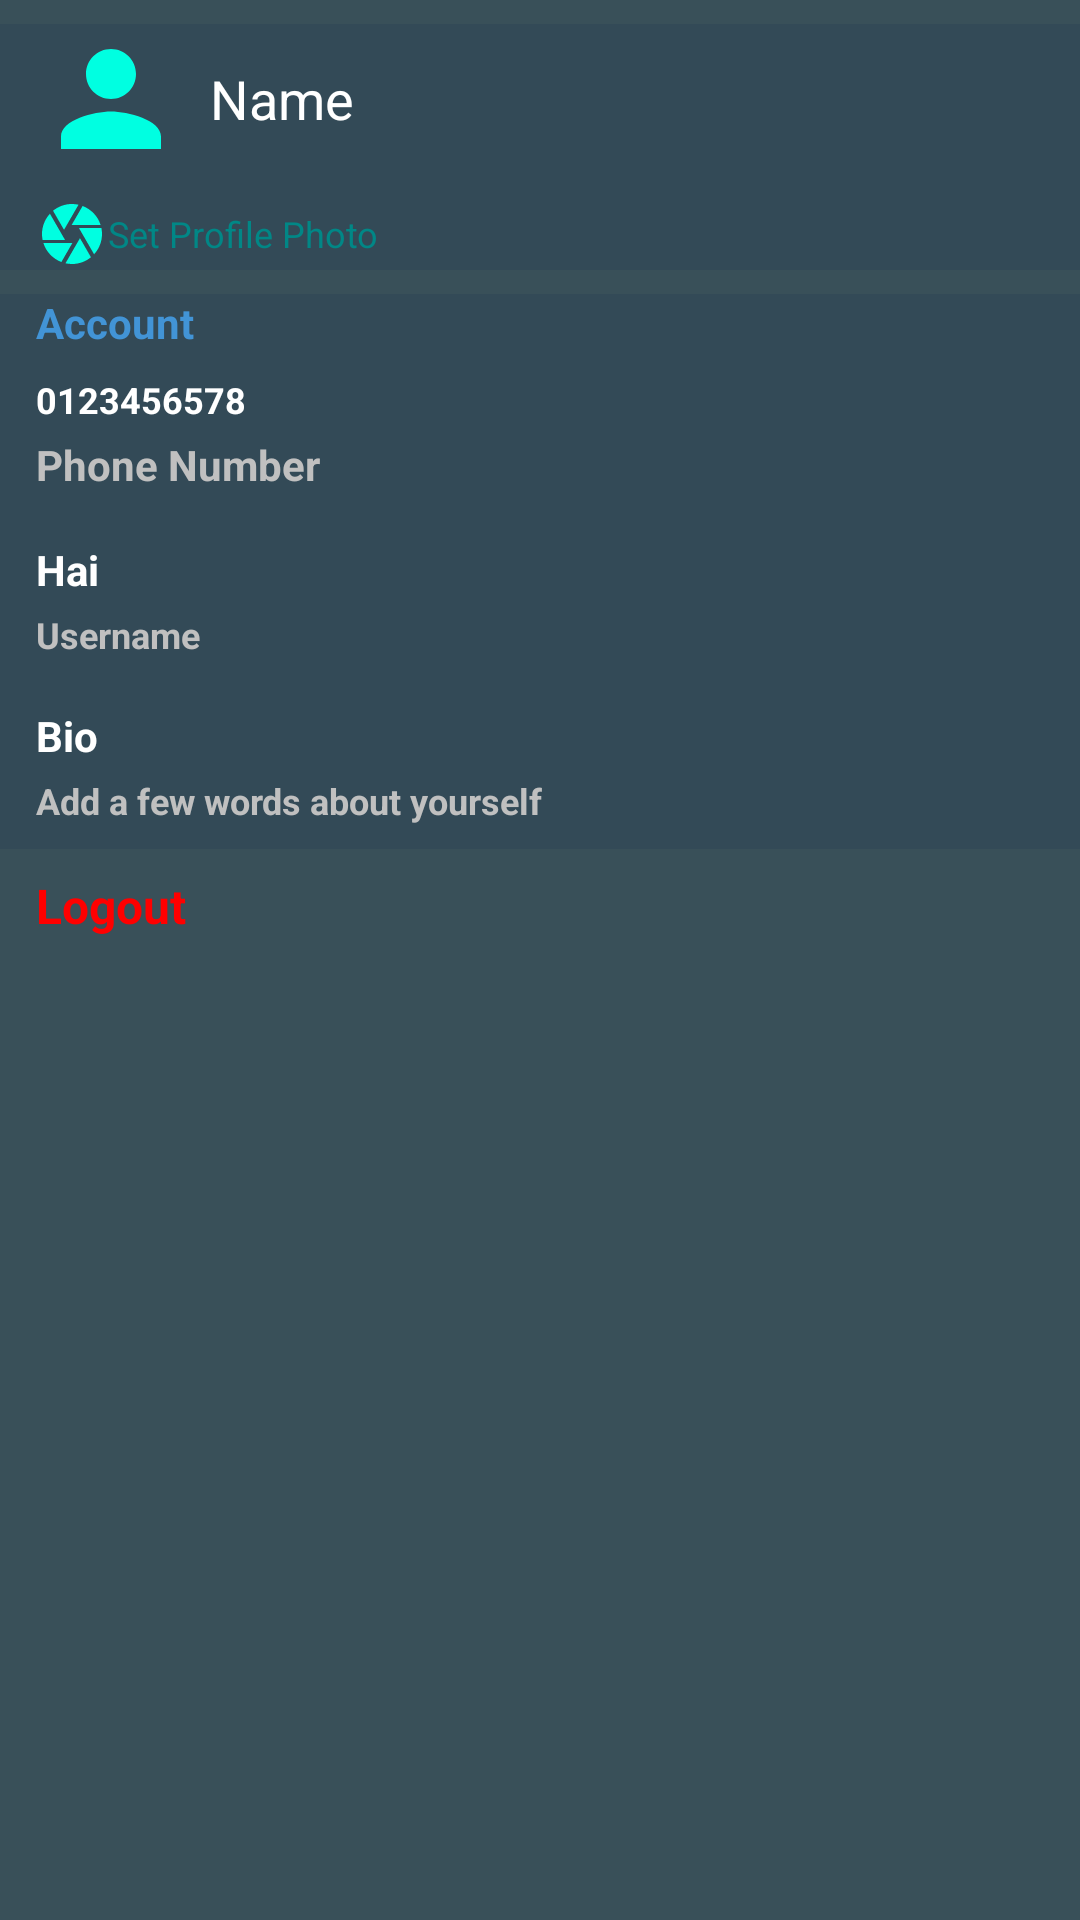

Icons on this 1080px x 1920px Android screen, each with the point to tap as (x,y):
person: (111,99)
